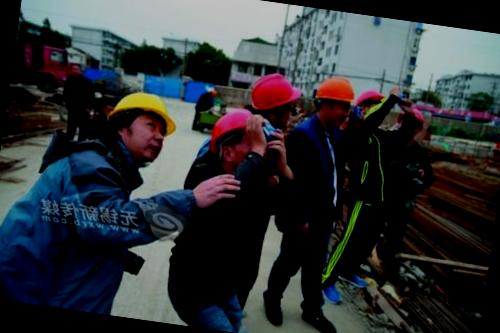no_helmet: (69, 59, 85, 78)
